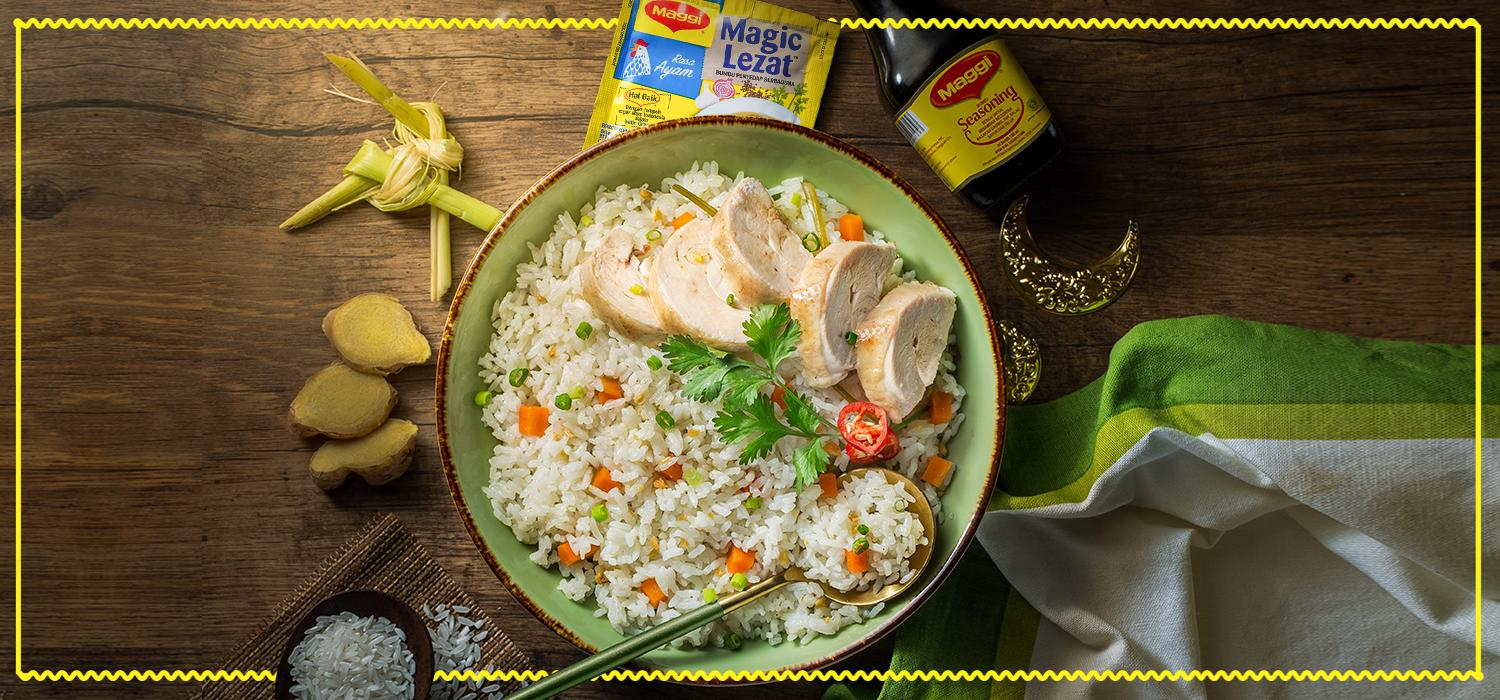daging: (671, 218, 796, 299)
makanan_berpati: (528, 407, 715, 568)
